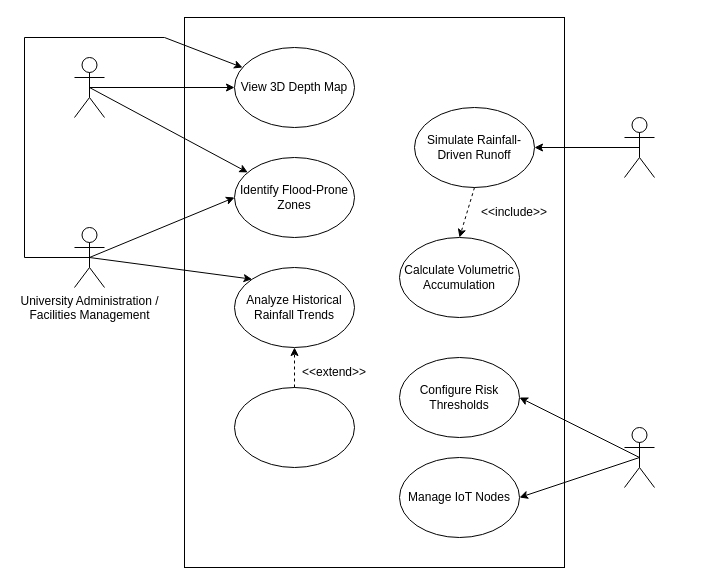
This 713x585 diagram has some shape labels left out. Here are the shapes that lost their labels. From the top down, the centre of each, then its label:
[89,87]: University Students
[639,147]: Tipping Rain Gauges
[294,427]: Generate Planning Report
[639,457]: System Administrator
